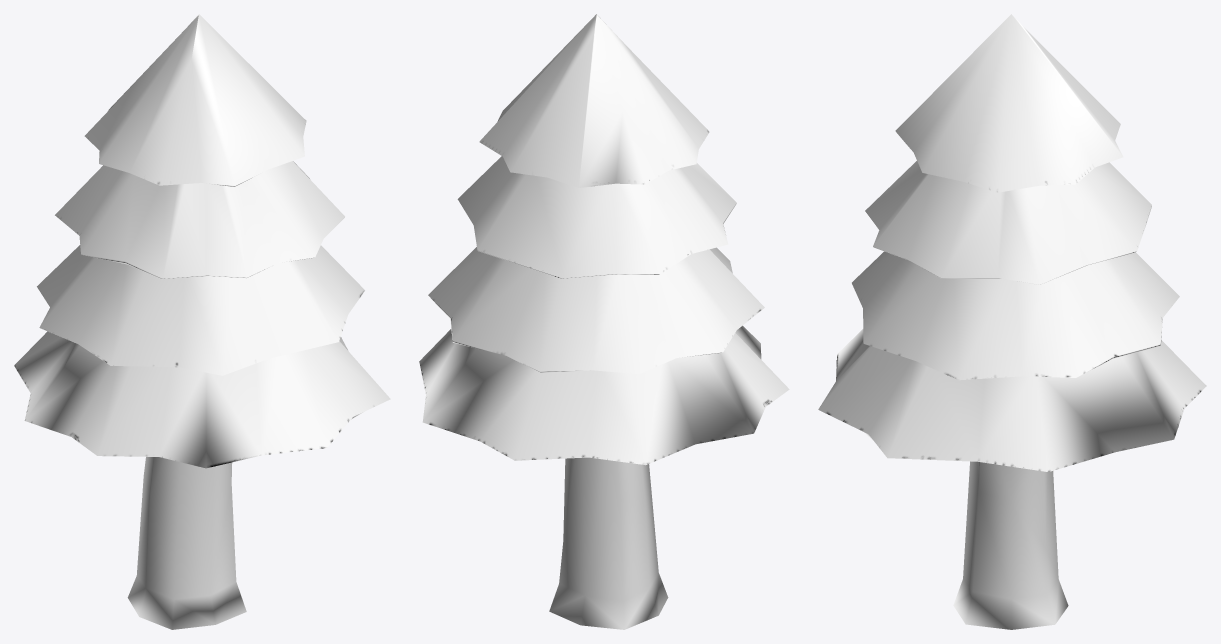
The model's file is tree1_LOD2.fbx.
3 views of the same model, side by side, from view 1: azimuth 30°, elevation 25°; view 2: azimuth 150°, elevation 25°; view 3: azimuth 270°, elevation 25° (orthographic).
Visible parts, largest first — view 1: Simplygon_Proxy_d096e078-a419-4327-ba15-3211d0c94858; view 2: Simplygon_Proxy_d096e078-a419-4327-ba15-3211d0c94858; view 3: Simplygon_Proxy_d096e078-a419-4327-ba15-3211d0c94858.
Boxes of the visible parts, x1,y1,x2,y2 form: Simplygon_Proxy_d096e078-a419-4327-ba15-3211d0c94858: [14, 14, 390, 629]; Simplygon_Proxy_d096e078-a419-4327-ba15-3211d0c94858: [419, 14, 789, 629]; Simplygon_Proxy_d096e078-a419-4327-ba15-3211d0c94858: [818, 14, 1206, 629].
Size of the model in its own units: 680 by 1176 by 692.
1 material, 1 textured.
